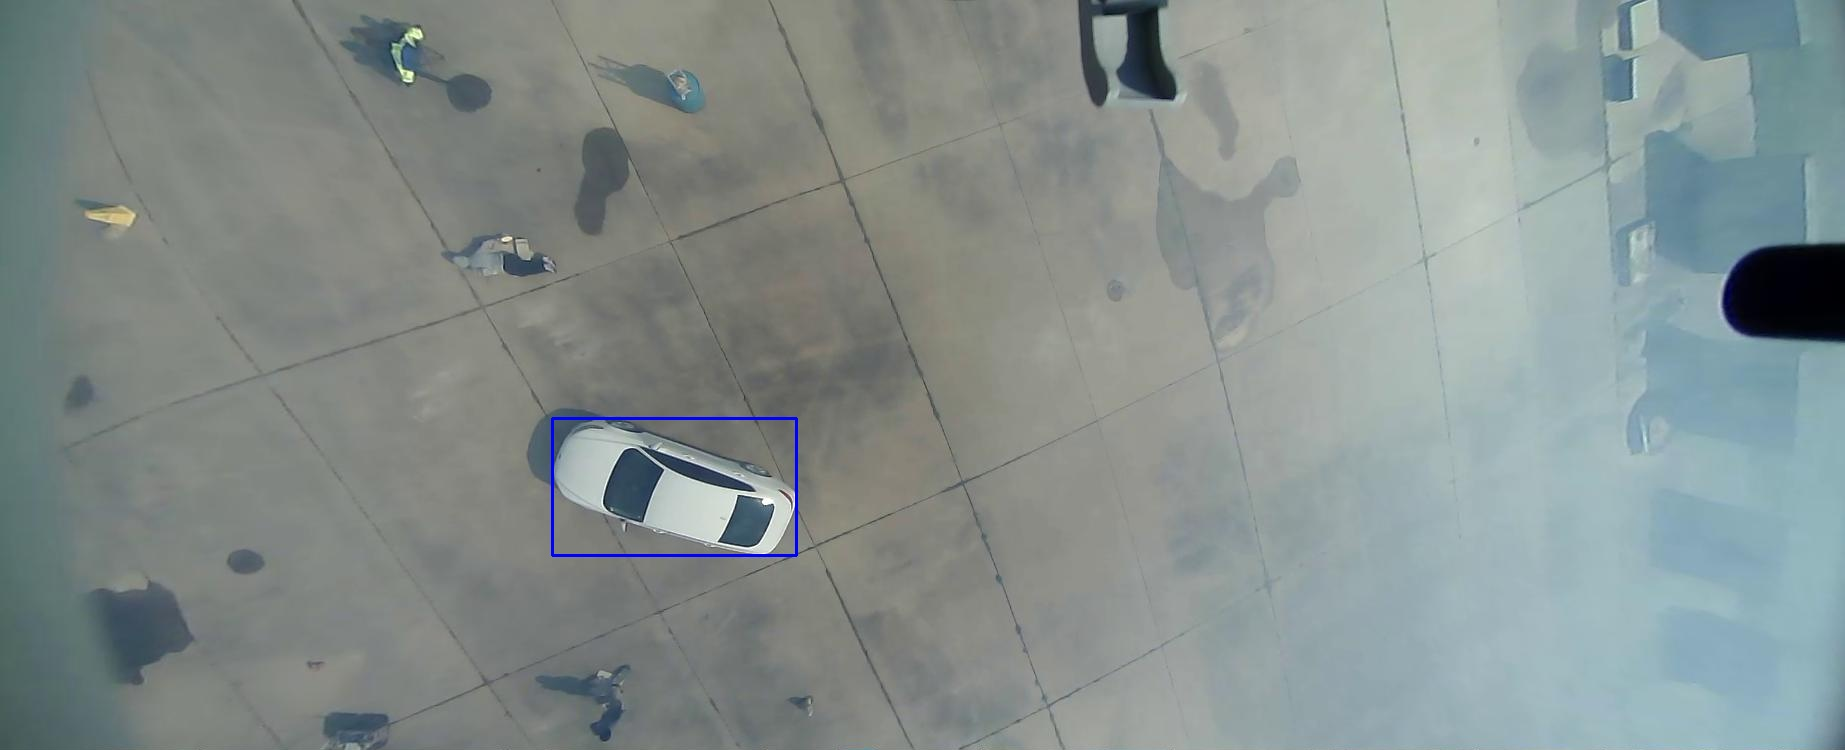vehicle: (418, 552, 555, 750)
